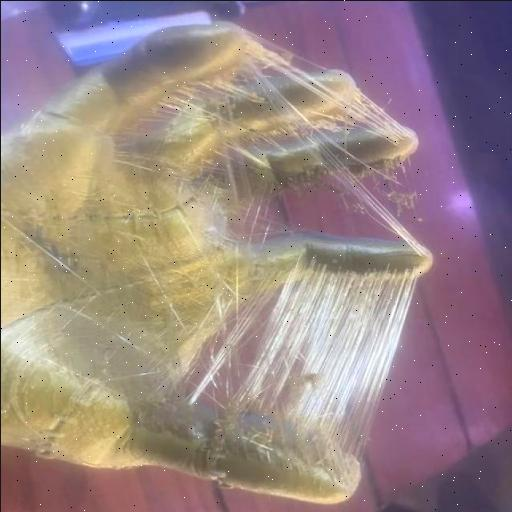stringing: (212, 258, 426, 470)
